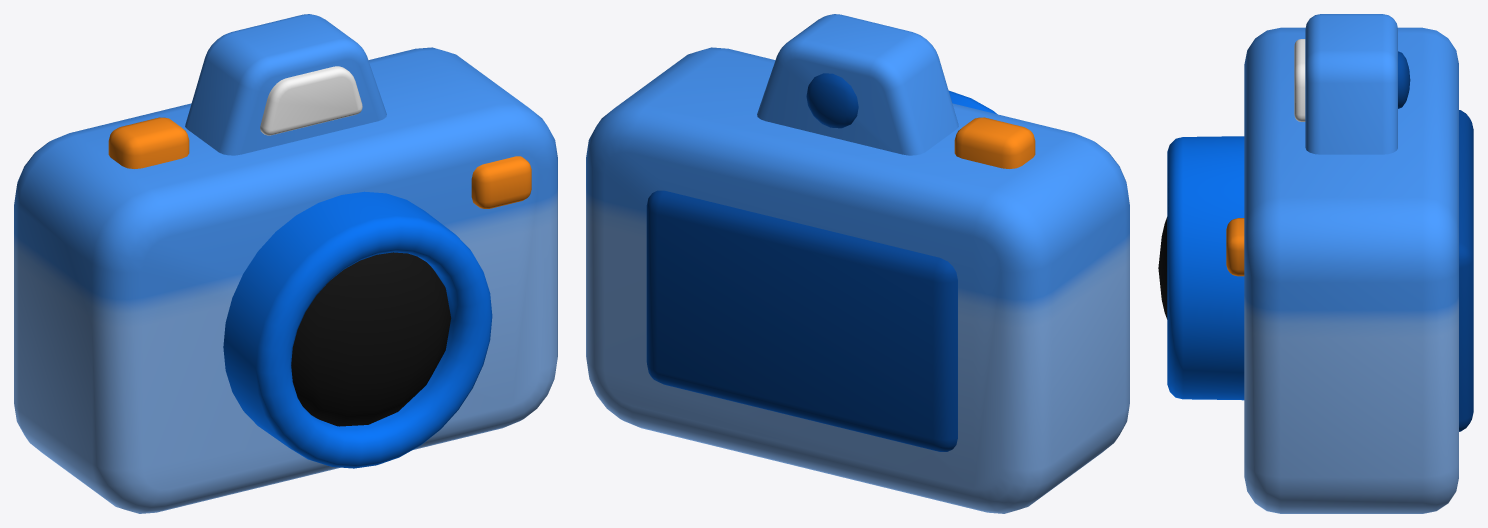
File: camera .fbx
3 views of the same model, side by side, from view 1: azimuth 30°, elevation 25°; view 2: azimuth 150°, elevation 25°; view 3: azimuth 270°, elevation 25° (orthographic). The views are drawn at different scales.
Parts seen in each view (by area): view 1: Roundcube; view 2: Roundcube; view 3: Roundcube.
Boxes of the visible parts, x1,y1,x2,y2 form: Roundcube: (14, 14, 557, 513); Roundcube: (586, 14, 1129, 513); Roundcube: (1158, 14, 1473, 513).
Bounding box in the file's own units: 9.97 × 8.37 × 6.08.
1 material, 1 textured.
